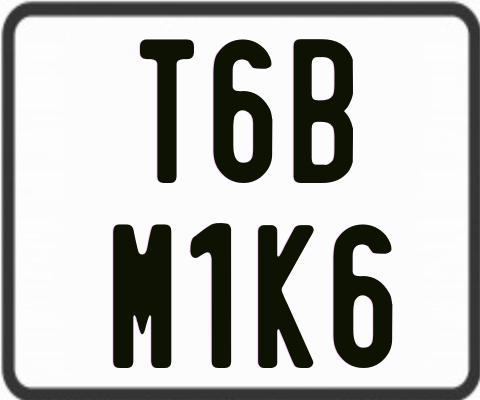1: (189, 221, 232, 367)
6: (333, 224, 398, 372), (211, 36, 276, 181)
B: (293, 36, 352, 185)
K: (258, 222, 320, 371)
M: (110, 223, 172, 370)
T: (140, 37, 200, 182)
